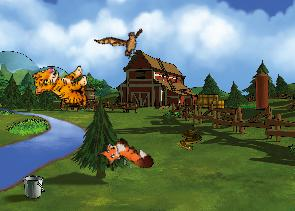eagle: (94, 15, 152, 70)
fox: (94, 129, 156, 187)
tiger: (31, 60, 92, 114)
